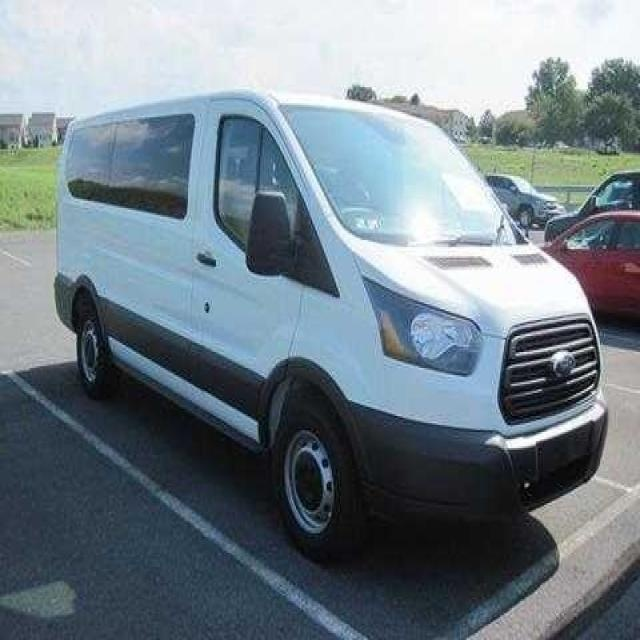Van: (55, 85, 612, 562)
